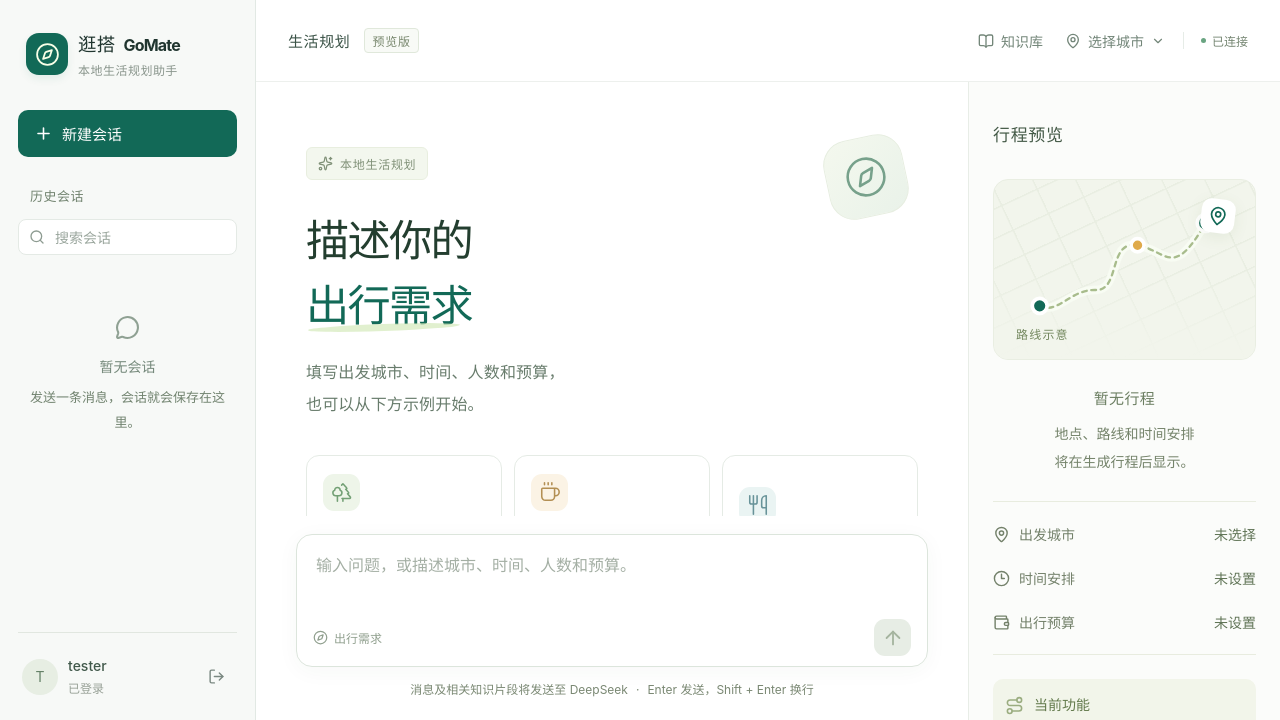
Test case: GoMate workspace › reuses the same idempotency key and conversation after a network failure
Expected: the button named "发送消息" is shown, [874, 619, 911, 656]
Type "想找个地方喝咖啡" into the text box named "输入出行需求". click: [612, 580]
box: [313, 551, 911, 609]
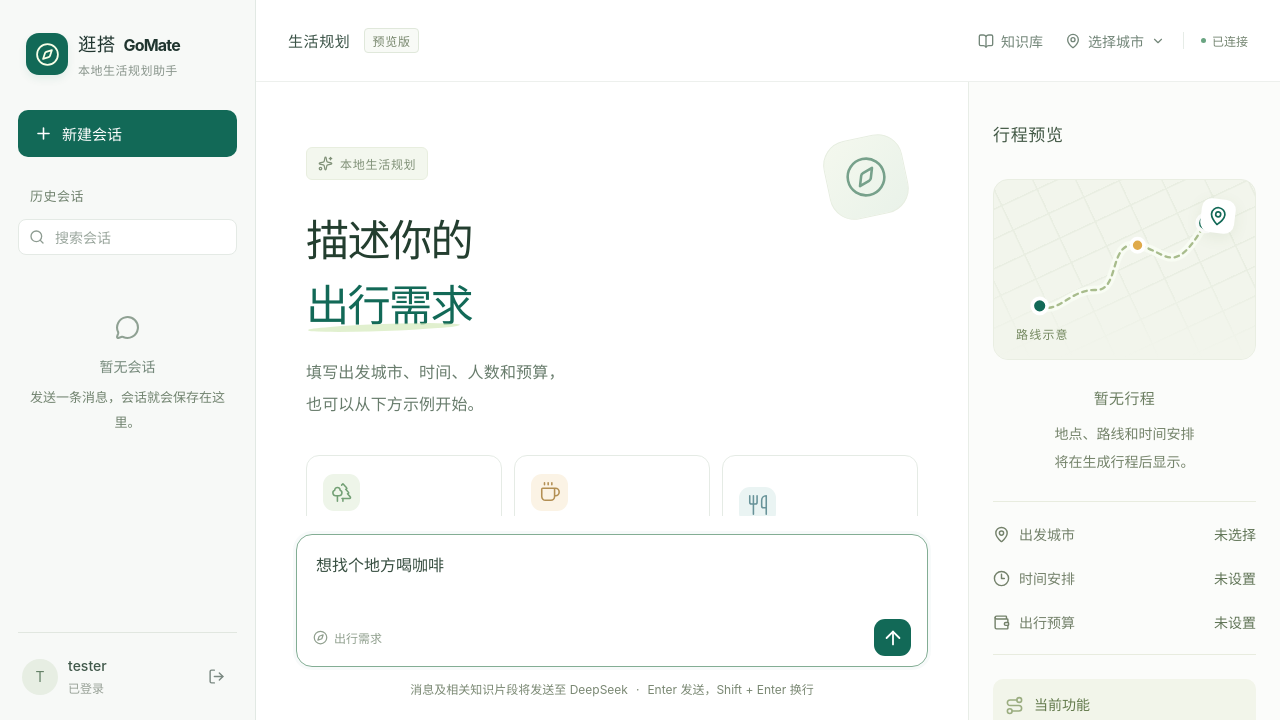
Click the button named "发送消息". click: [892, 638]
box: [874, 619, 911, 656]
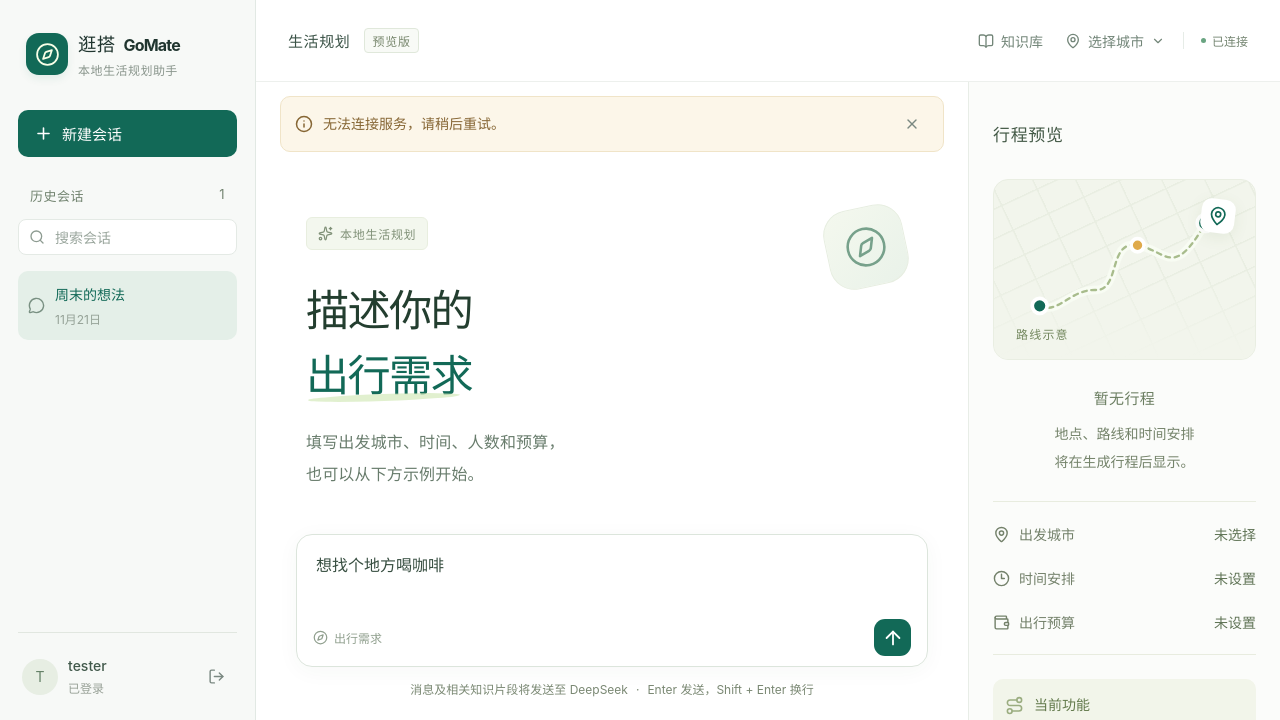
Now the button named "发送消息" is enabled
Now the message shows "无法连接服务", box [323, 115, 505, 132]
Click the button named "发送消息". click: [892, 638]
box: [874, 619, 911, 656]
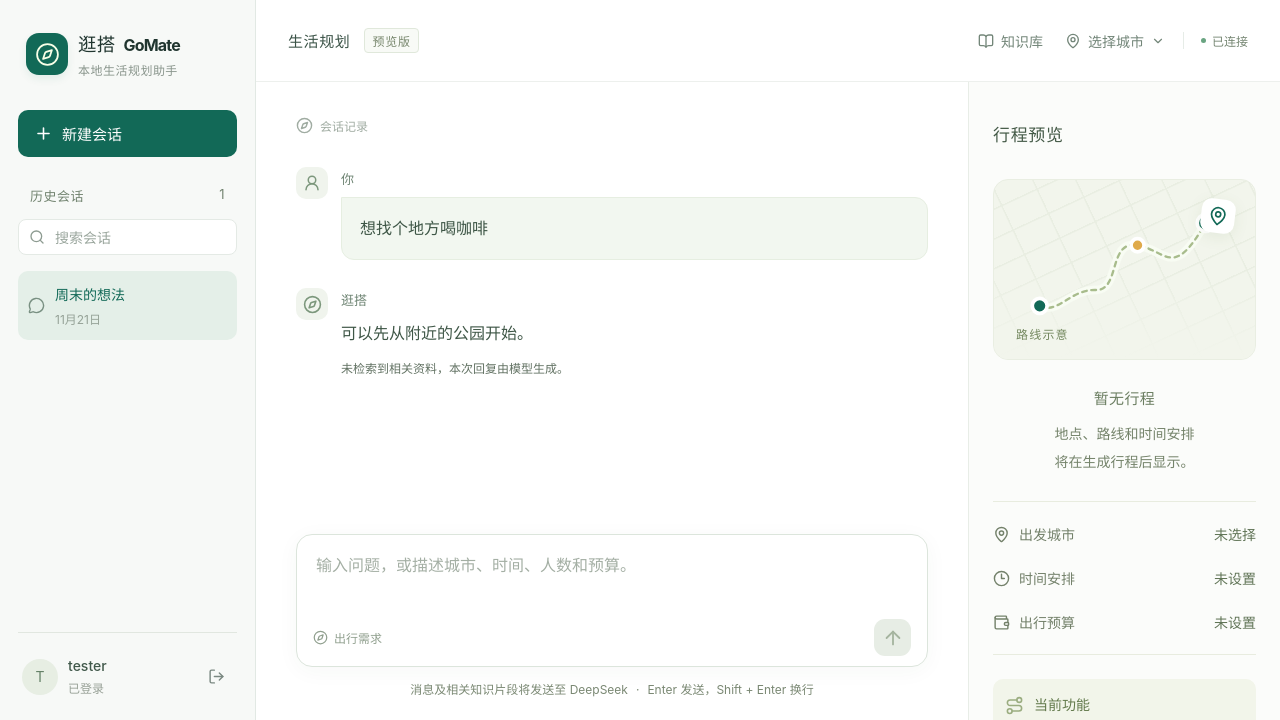
Now the text "可以先从附近的公园开始。" is shown, box [341, 323, 533, 343]
